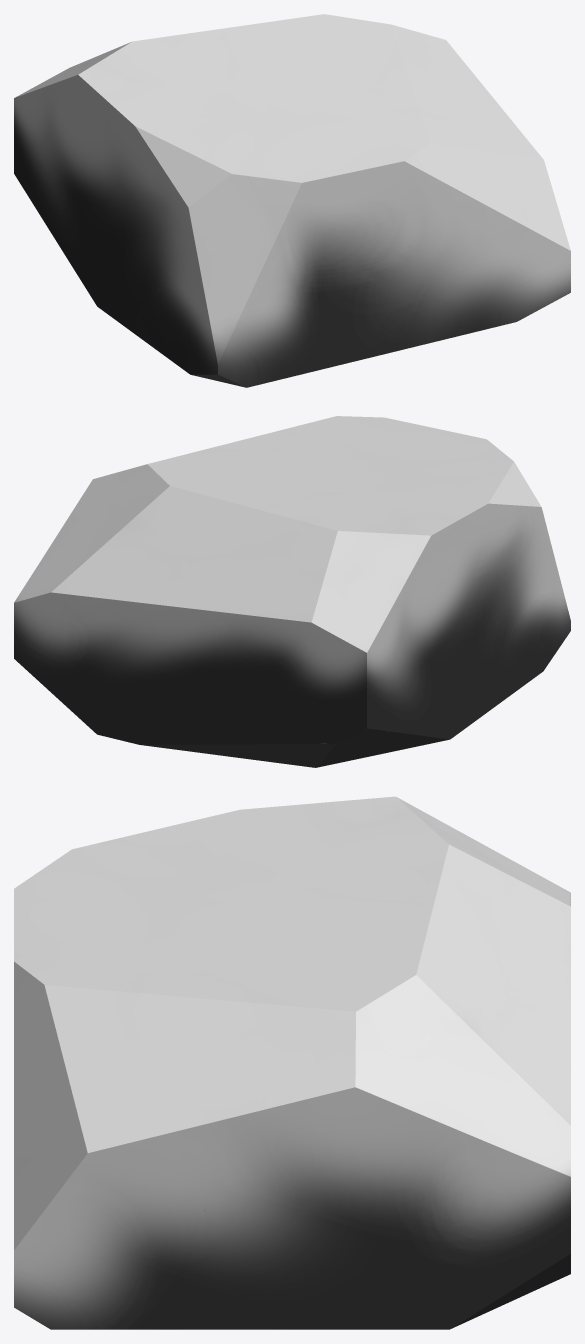
Rendered from Rock4.fbx.
3 views of the same model, one above another, from view 1: azimuth 30°, elevation 25°; view 2: azimuth 150°, elevation 25°; view 3: azimuth 270°, elevation 25° (orthographic). The views are drawn at different scales.
Visible parts, largest first — view 1: Rock4; view 2: Rock4; view 3: Rock4.
Part boxes in pixels (box(x1,y1,x2,y2)): Rock4: box(14, 14, 570, 387); Rock4: box(14, 416, 570, 767); Rock4: box(14, 796, 570, 1329).
Bounding box in the file's own units: 200 × 118 × 200.
Materials: 1 (1 with a texture image).
